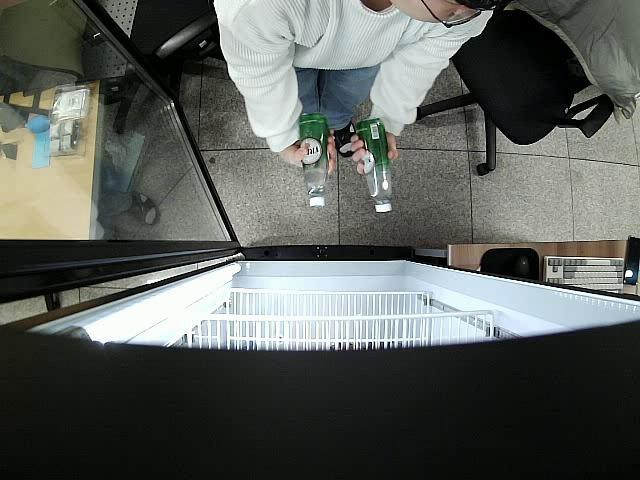18_trevi: (353, 118, 396, 212), (298, 114, 329, 208)
